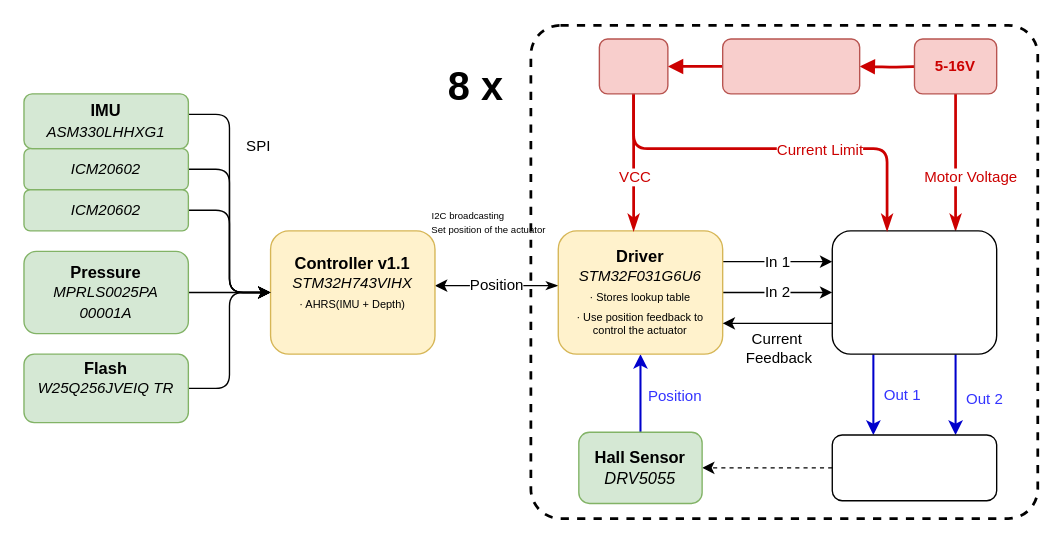
The diagram is 1063 pixels wide and 543 high, and some of its shapes have lost their labels. The shapes that lost their labels are listed below. From the top down, each one's centre as x and y in pixels, then its label:
the point at 633,66: 3.3 V
the point at 790,66: LDO TPS709
the point at 914,291: H-Bridge DRV8231A · Current limited to 2.2A
the point at 914,467: FOLD Actuator
